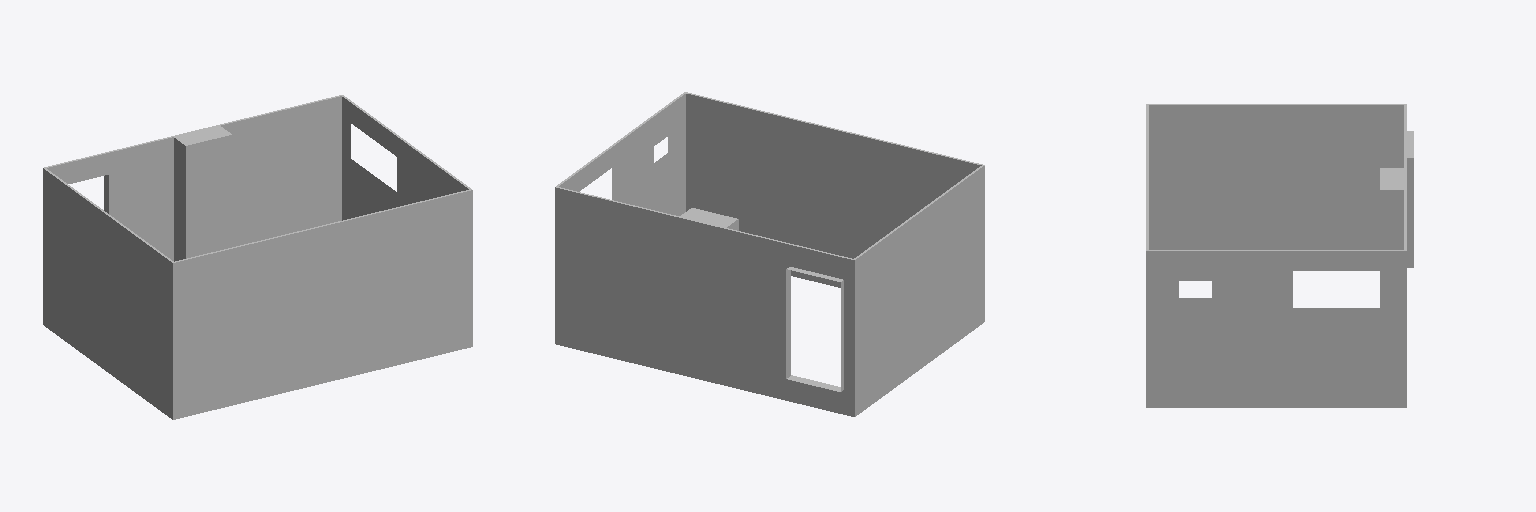
File: sciany.obj
The picture shows the model from 3 angles: view 1: azimuth 30°, elevation 25°; view 2: azimuth 150°, elevation 25°; view 3: azimuth 270°, elevation 25°; orthographic projection.
Parts seen in each view (by area): view 1: Kostka.004_Kostka.019; view 2: Kostka.004_Kostka.019; view 3: Kostka.004_Kostka.019.
Boxes of the visible parts, <box> form: Kostka.004_Kostka.019: <box>43,95,472,419</box>; Kostka.004_Kostka.019: <box>555,92,984,416</box>; Kostka.004_Kostka.019: <box>1146,104,1413,407</box>.
Bounding box in the file's own units: 4 × 2 × 3.09.